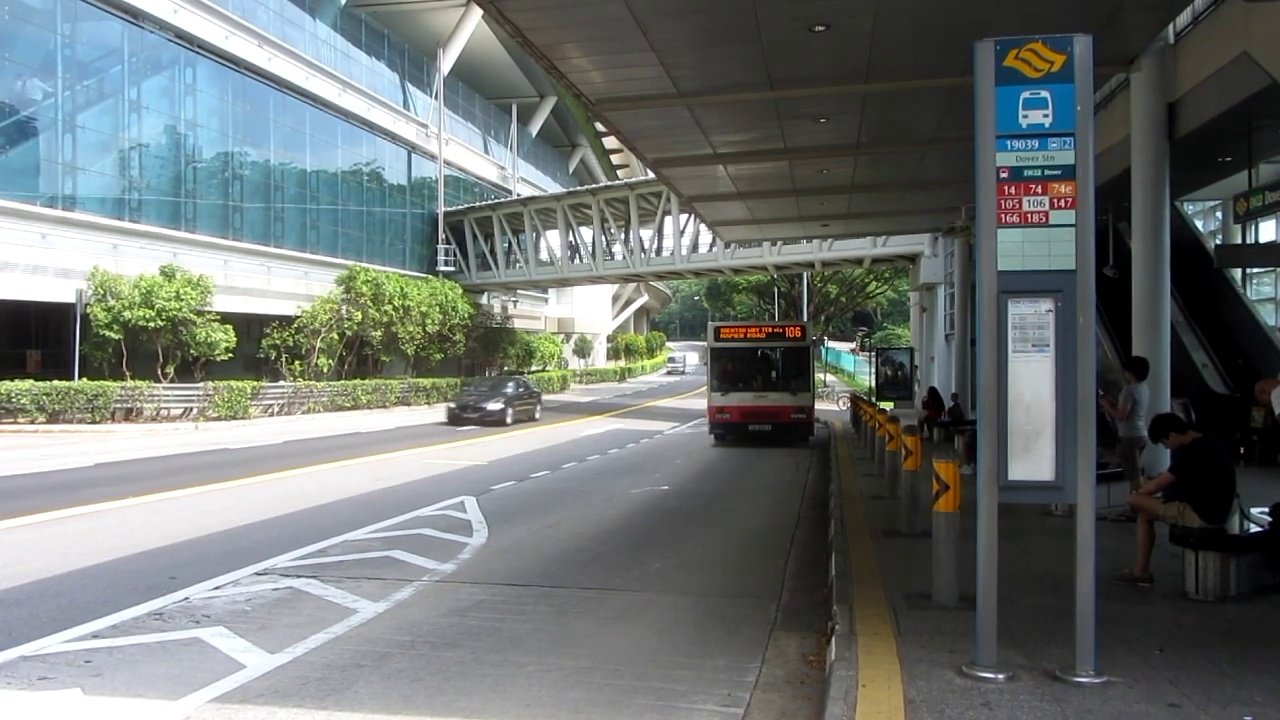bus panel: (713, 324, 807, 343)
